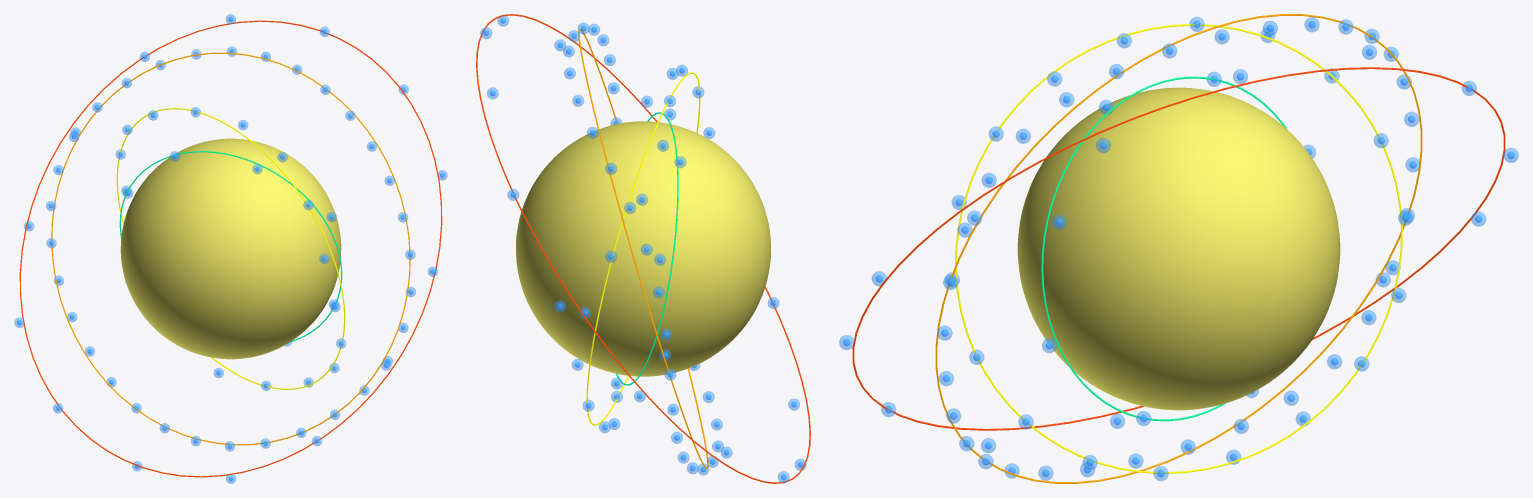
The picture shows the model from 3 angles, left to right: view 1: azimuth 30°, elevation 25°; view 2: azimuth 150°, elevation 25°; view 3: azimuth 270°, elevation 25°; orthographic projection. The views are drawn at different scales.
Visible parts, largest first — view 1: W, object 126, object 61, object 24, object 7; view 2: W, object 126, object 61, object 24, object 7; view 3: W, object 61, object 126, object 24, object 7.
Boxes of the visible parts, x1,y1,x2,y2 form: W: (120,138,341,359); object 126: (19,20,442,477); object 61: (51,52,410,445); object 24: (116,108,345,389); object 7: (119,151,342,342); W: (516,121,770,376); object 126: (476,14,810,483); object 61: (578,29,708,468); object 24: (586,72,700,425); object 7: (616,112,678,385); W: (1017,87,1340,410); object 61: (935,14,1422,483); object 126: (852,67,1505,430); object 24: (955,24,1402,473); object 7: (1041,76,1287,421).
Size of the model in its own units: 5.32 by 5.99 by 7.07.
